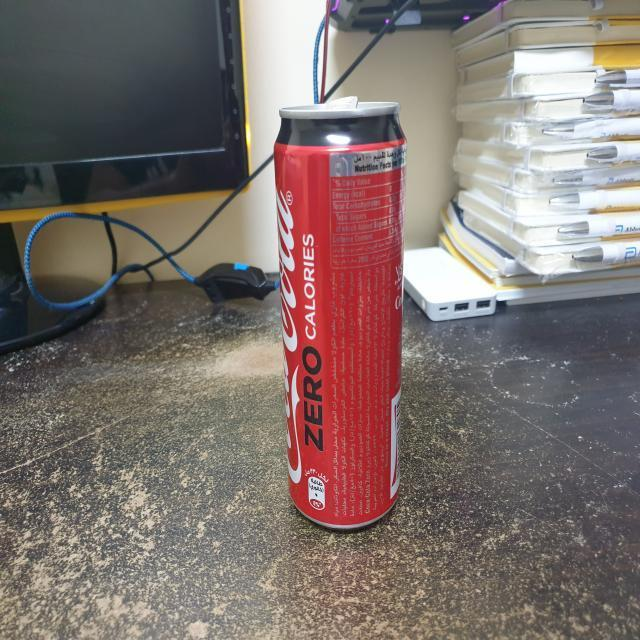metal-can: (275, 104, 408, 534)
